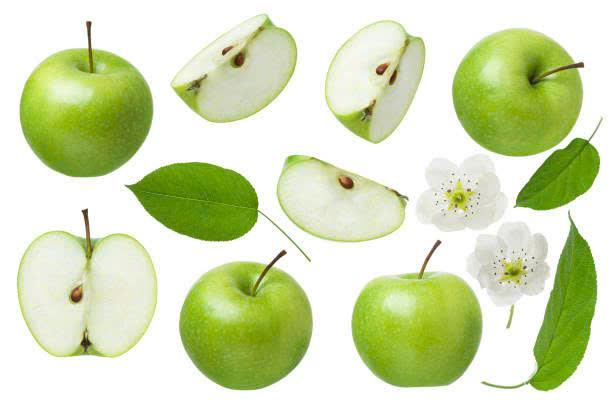apple: (13, 208, 169, 364), (460, 24, 590, 165), (187, 254, 317, 391), (356, 265, 481, 400), (162, 5, 301, 122), (34, 47, 152, 174), (275, 146, 410, 257), (339, 5, 426, 147)
